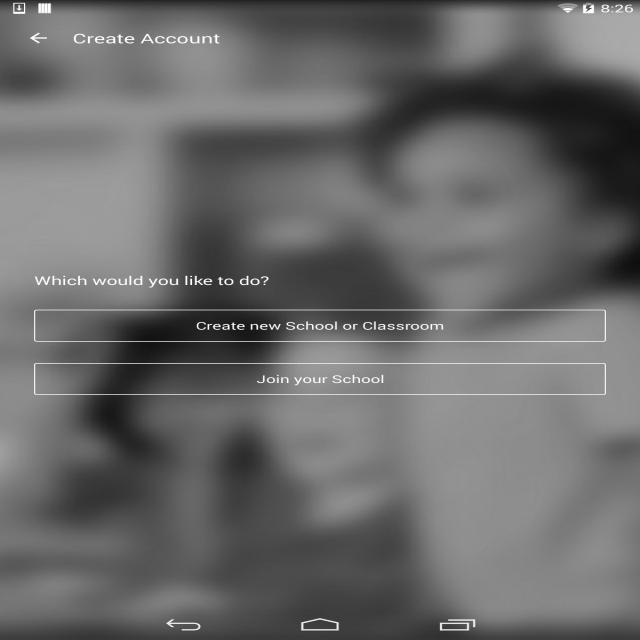Button: (30, 307, 614, 345), (30, 360, 612, 398)
ImageButton: (22, 32, 55, 48)
TextView: (28, 273, 276, 289), (69, 31, 225, 49)
